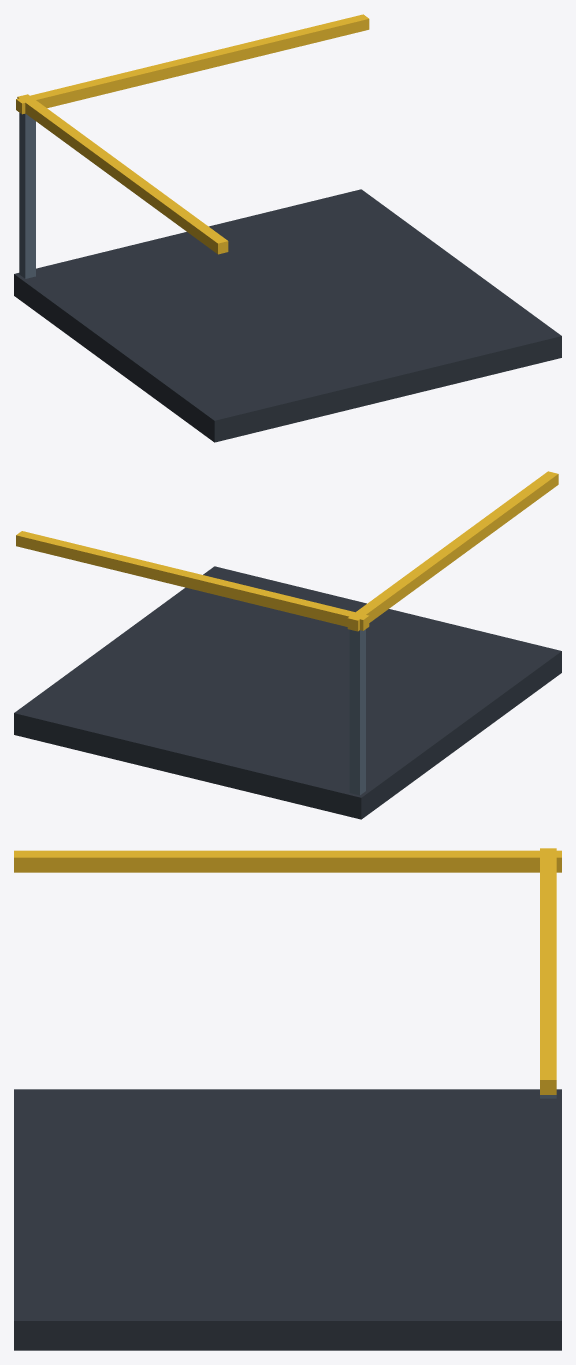
The model's file is interior_catwalk_corner.glb.
3 views of the same model, one above another, from view 1: azimuth 30°, elevation 25°; view 2: azimuth 150°, elevation 25°; view 3: azimuth 270°, elevation 25° (orthographic). The views are drawn at different scales.
Parts seen in each view (by area): view 1: interior_catwalk_corner_steelDark, interior_catwalk_corner_yellow, interior_catwalk_corner_steel; view 2: interior_catwalk_corner_steelDark, interior_catwalk_corner_yellow, interior_catwalk_corner_steel; view 3: interior_catwalk_corner_steelDark, interior_catwalk_corner_yellow.
Boxes of the visible parts, bbox=[...] form: interior_catwalk_corner_steelDark: bbox=[14, 189, 561, 442]; interior_catwalk_corner_yellow: bbox=[16, 14, 369, 254]; interior_catwalk_corner_steel: bbox=[19, 113, 35, 278]; interior_catwalk_corner_steelDark: bbox=[14, 566, 561, 819]; interior_catwalk_corner_yellow: bbox=[16, 471, 558, 631]; interior_catwalk_corner_steel: bbox=[349, 629, 365, 795]; interior_catwalk_corner_steelDark: bbox=[14, 1089, 561, 1350]; interior_catwalk_corner_yellow: bbox=[14, 848, 561, 1094].
Size of the model in its own units: 2 by 1.09 by 2.
